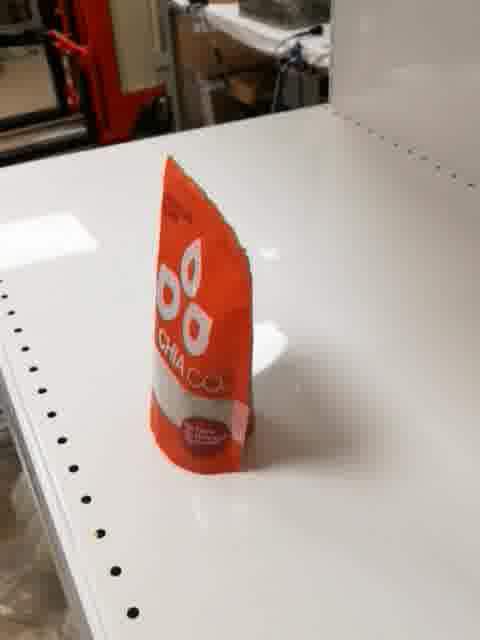whitechia: (146, 151, 258, 476)
